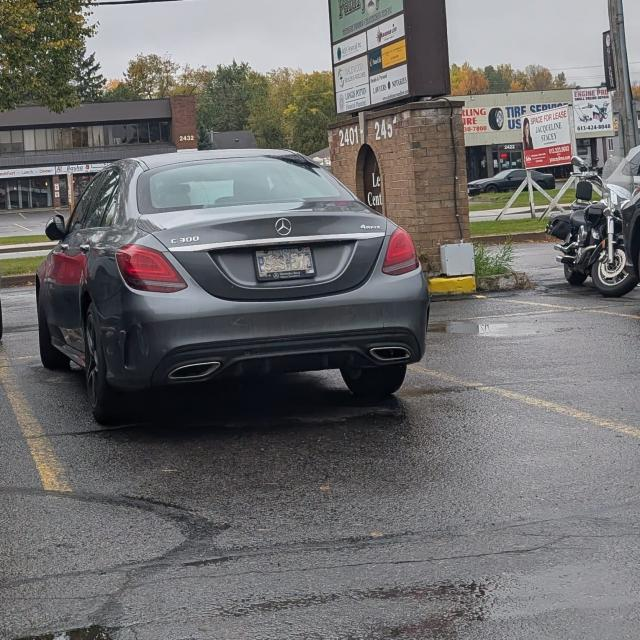plaque: (256, 247, 315, 281)
